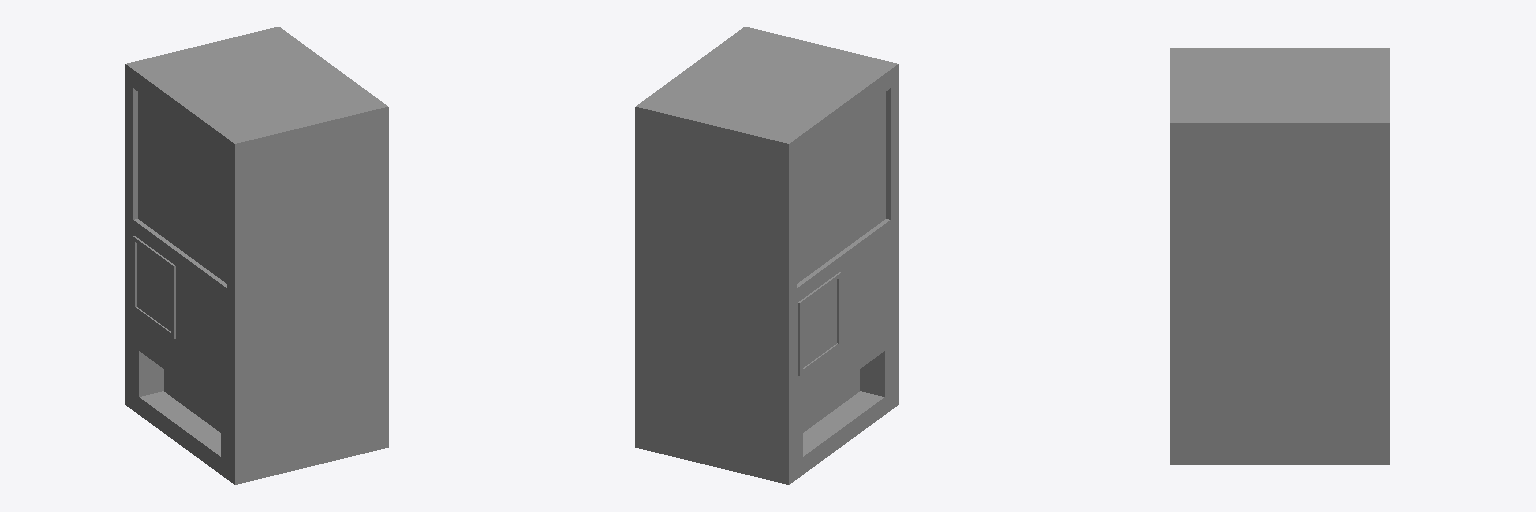
Rendered from VendingMachine.obj.
The picture shows the model from 3 angles: view 1: azimuth 30°, elevation 25°; view 2: azimuth 150°, elevation 25°; view 3: azimuth 270°, elevation 25°; orthographic projection.
Parts seen in each view (by area): view 1: Cube.019_Cube.027, Cube.078_Cube.083, Cube.075_Cube.079; view 2: Cube.019_Cube.027, Cube.078_Cube.083, Cube.075_Cube.079; view 3: Cube.019_Cube.027.
Boxes of the visible parts, x1=… form: Cube.019_Cube.027: x1=125, y1=27, x2=388, y2=484; Cube.078_Cube.083: x1=138, y1=92, x2=226, y2=283; Cube.075_Cube.079: x1=132, y1=236, x2=175, y2=338; Cube.019_Cube.027: x1=635, y1=27, x2=898, y2=484; Cube.078_Cube.083: x1=797, y1=92, x2=885, y2=283; Cube.075_Cube.079: x1=798, y1=272, x2=841, y2=375; Cube.019_Cube.027: x1=1170, y1=48, x2=1389, y2=464.
Bounding box in the file's own units: 2.02 × 4.23 × 2.46.